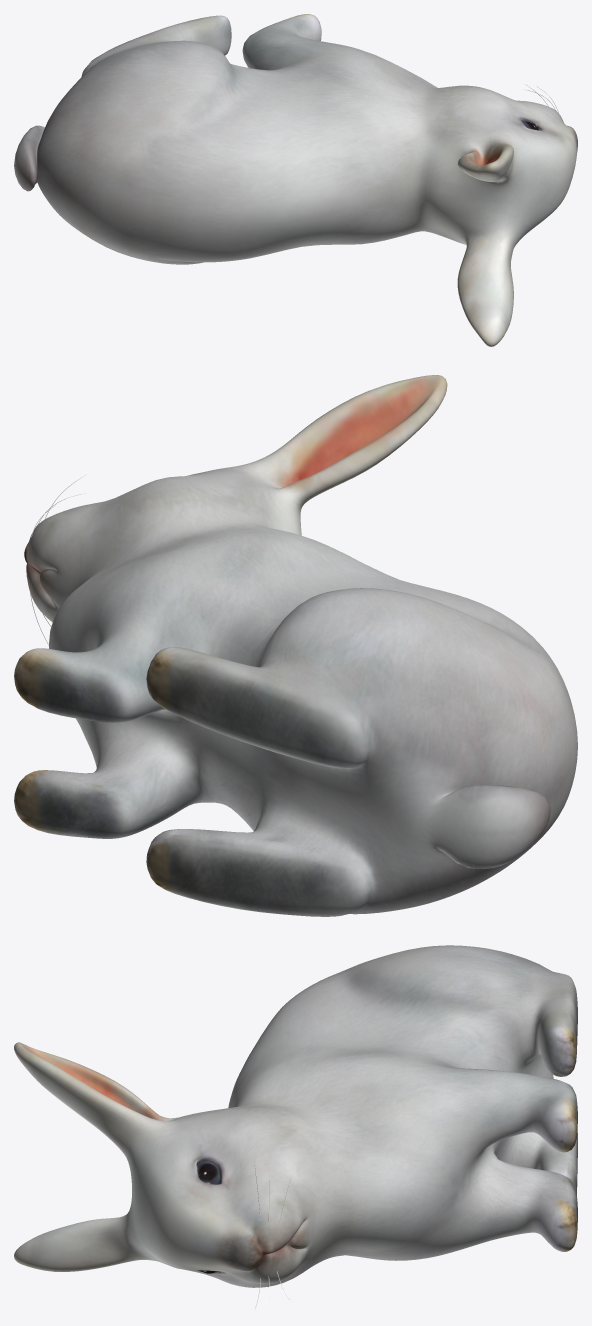
Rendered from 12956_WhiteHare_v1.obj.
3 views of the same model, one above another, from view 1: azimuth 30°, elevation 25°; view 2: azimuth 150°, elevation 25°; view 3: azimuth 270°, elevation 25° (orthographic). The views are drawn at different scales.
Visible parts, largest first — view 1: WhiteHare; view 2: WhiteHare; view 3: WhiteHare.
Part boxes in pixels (bbox=[...]): WhiteHare: bbox=[14, 14, 577, 346]; WhiteHare: bbox=[14, 375, 577, 916]; WhiteHare: bbox=[14, 945, 577, 1287].
Bounding box in the file's own units: 8.4 × 3.51 × 7.62.
